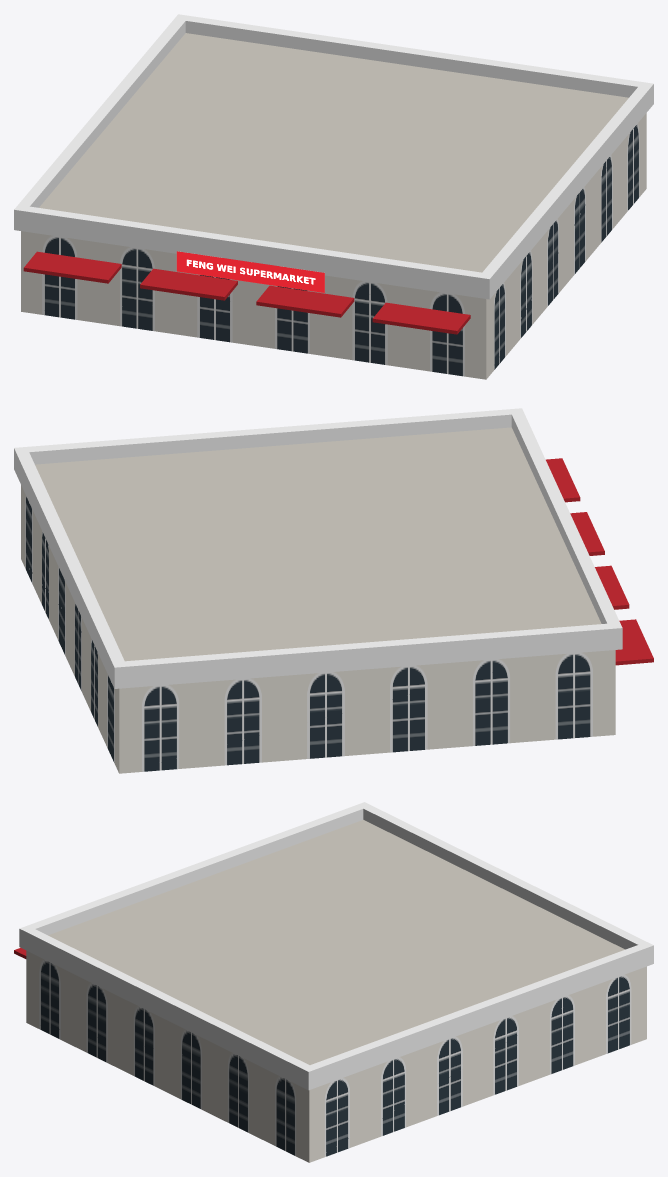
Rendered from fengwei.glb.
3 renders of one model, top to bottom at view 1: azimuth 30°, elevation 25°; view 2: azimuth 150°, elevation 25°; view 3: azimuth 270°, elevation 25°, orthographic. The views are drawn at different scales.
Visible parts, largest first — view 1: fengwei_lod0; view 2: fengwei_lod0; view 3: fengwei_lod0.
Boxes of the visible parts, <box> form: fengwei_lod0: <box>14,14,653,379</box>; fengwei_lod0: <box>14,408,653,773</box>; fengwei_lod0: <box>14,802,653,1162</box>.
Size of what is drawn, in the model's own units: 31.92 by 5.1 by 31.46.
5 materials, 2 textured.
